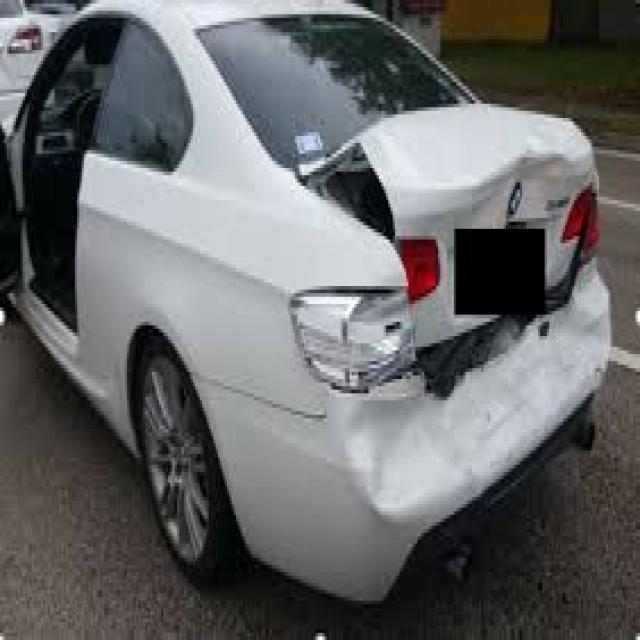moderate: (315, 94, 640, 552)
